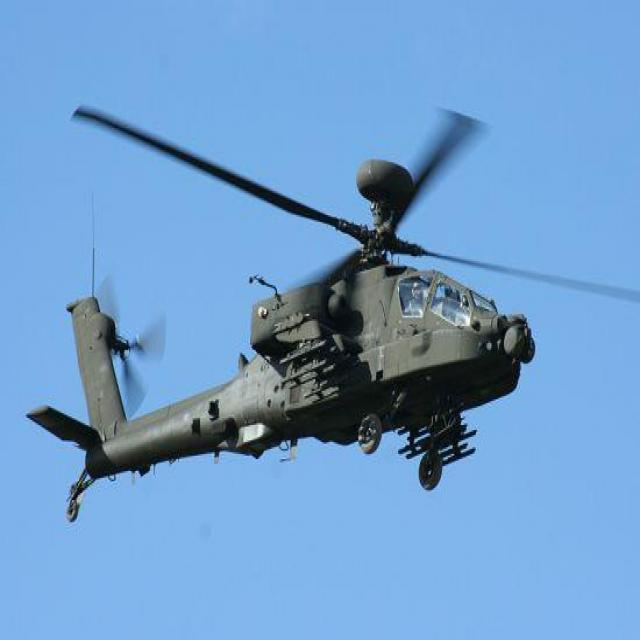MIL_HELO: (30, 85, 640, 528)
